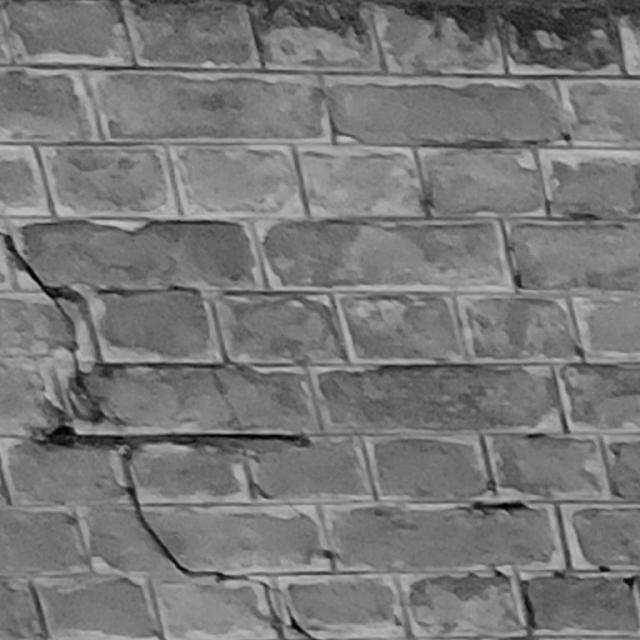crack: (1, 232, 318, 640)
